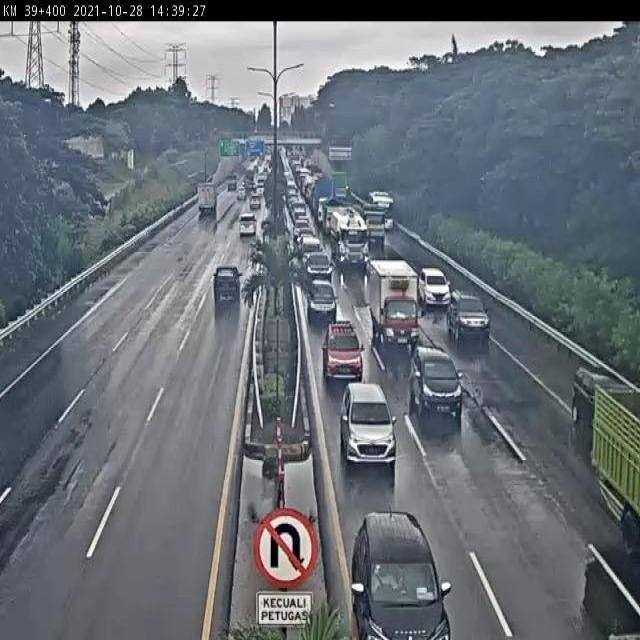big truck: (544, 364, 640, 559), (321, 202, 374, 274)
car: (352, 506, 456, 640), (330, 369, 403, 476), (400, 332, 474, 428), (555, 352, 613, 433), (321, 318, 367, 386), (446, 287, 494, 352), (209, 264, 248, 309), (417, 258, 450, 306), (306, 276, 338, 325), (231, 201, 264, 244), (242, 190, 268, 222), (229, 185, 249, 204)
small truck: (365, 258, 423, 350), (190, 177, 220, 220)
